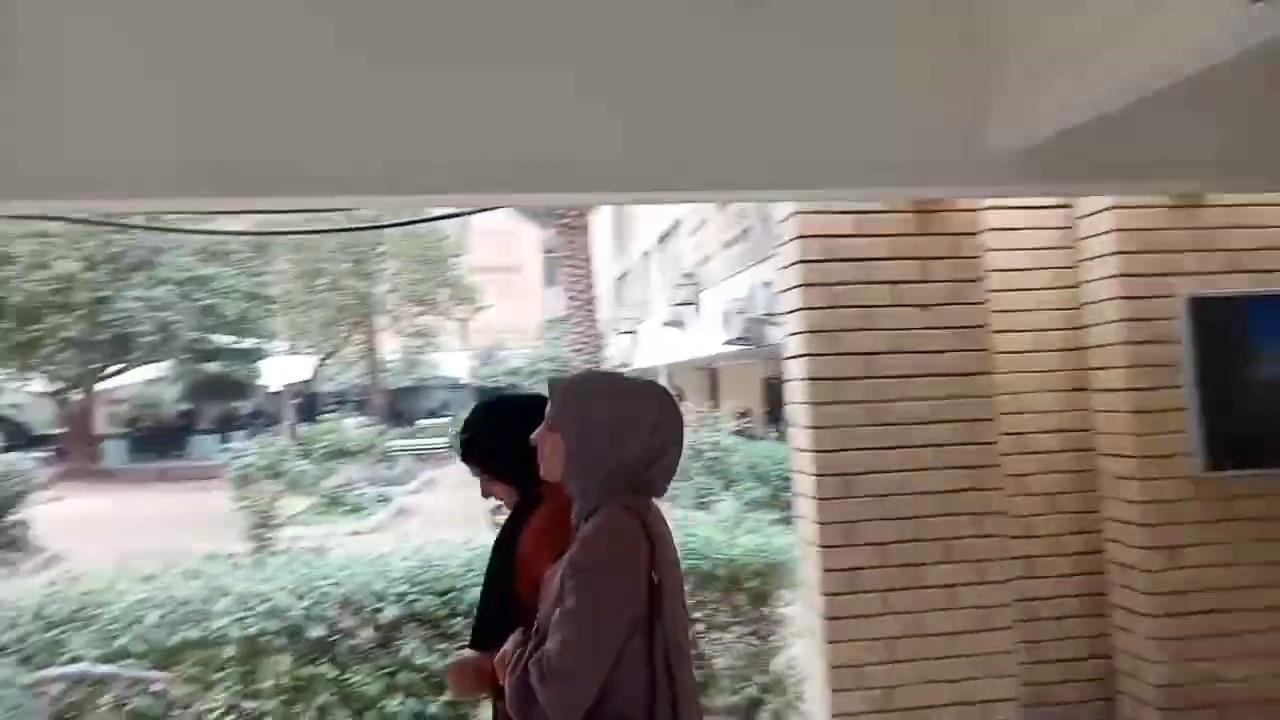person: (491, 368, 703, 719), (445, 391, 574, 718)
tree: (1, 207, 489, 468), (1, 536, 496, 718), (0, 215, 184, 467), (270, 210, 486, 418), (225, 412, 395, 552), (659, 402, 794, 577), (381, 216, 484, 382), (544, 207, 607, 373)
